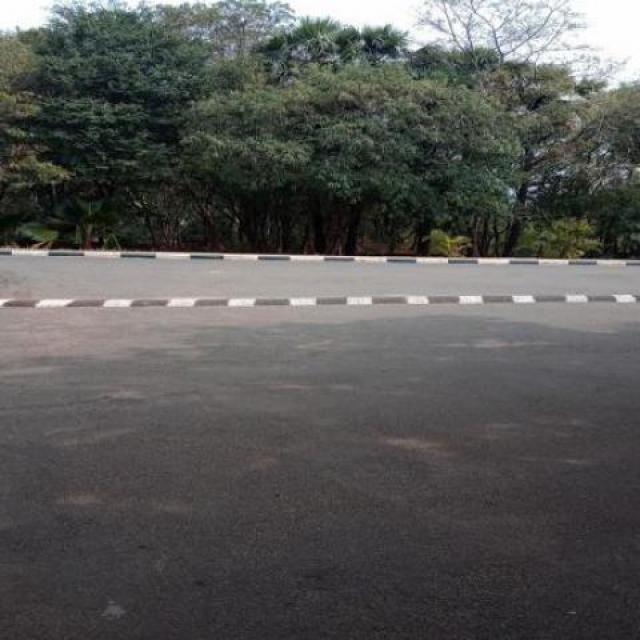Speed Bump: (0, 291, 639, 310)
